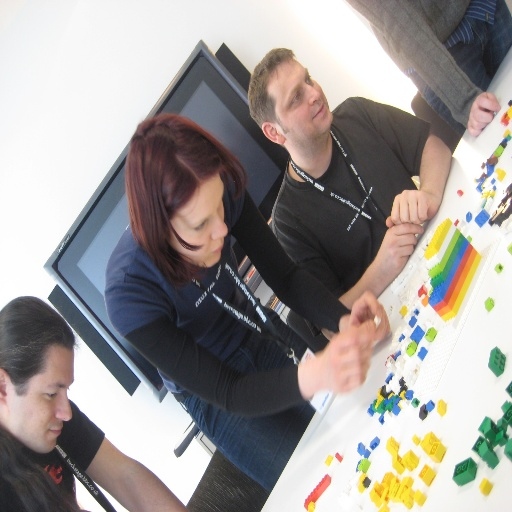hand: (322, 328, 373, 387), (378, 224, 424, 273), (345, 293, 391, 341), (384, 189, 438, 226), (466, 93, 502, 135)
